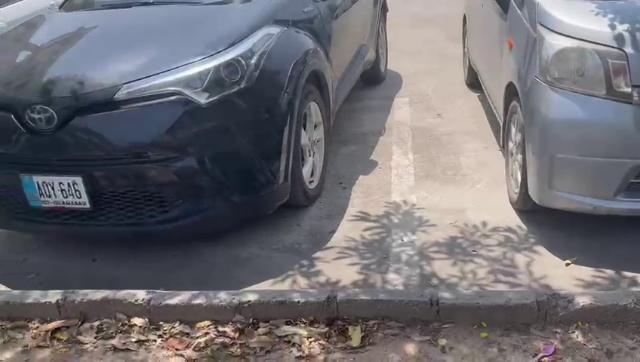plate: (19, 175, 91, 209)
